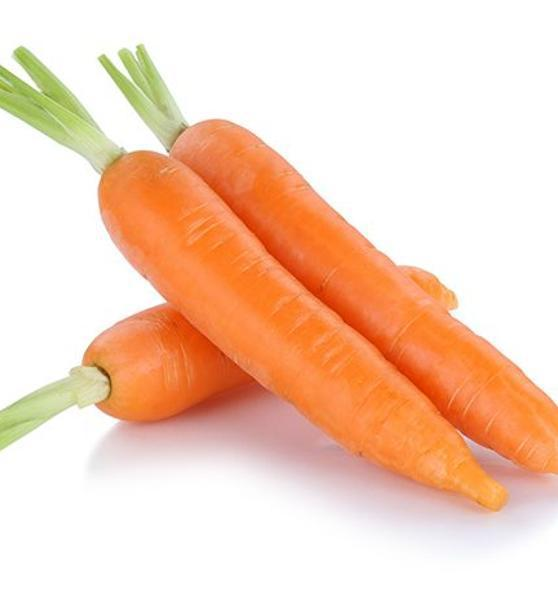carrot: (0, 58, 558, 499)
